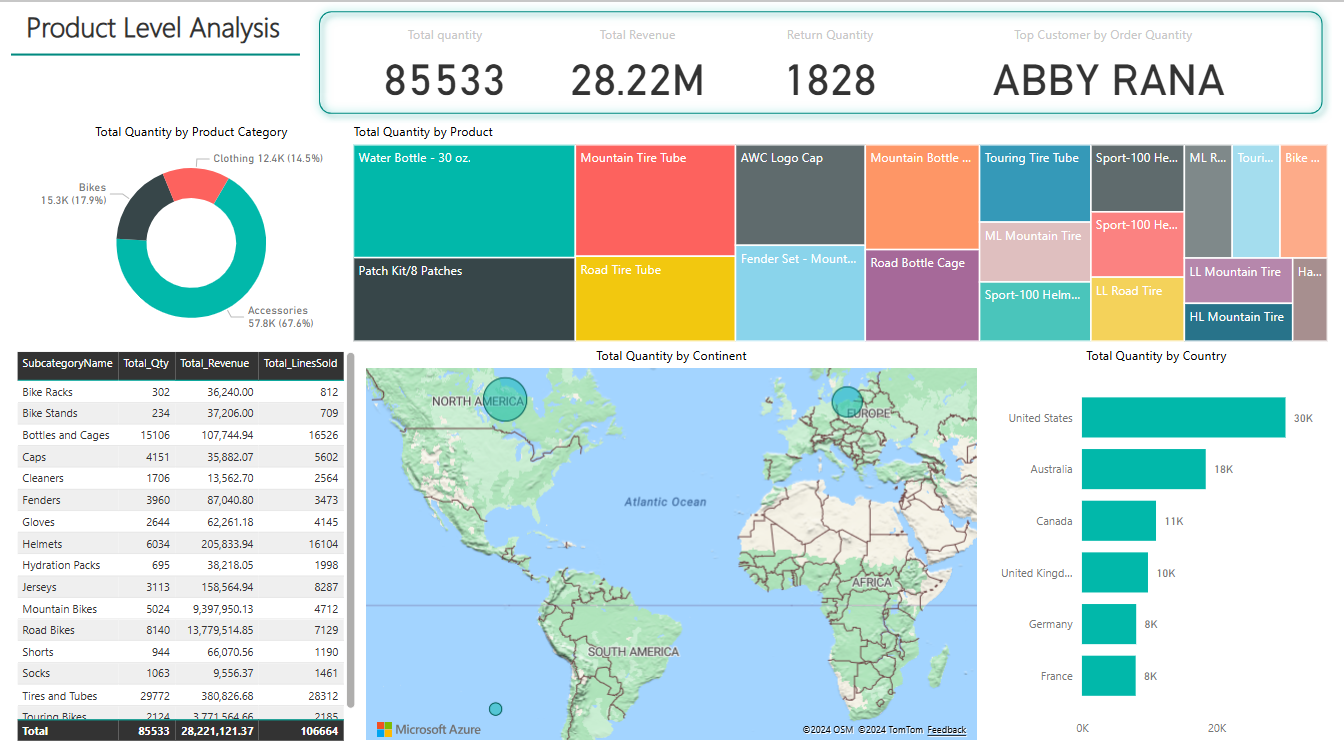

Layout of this report page (visuals, bound fields, positions):
{"tool":"powerbi","page":{"name":"Product Level Analysis","canvas":[1280,720],"ordinal":1},"visuals":[{"type":"textbox","box":[9.8,0,280,45.2],"z":0},{"type":"shape","box":[0,45.2,280,12.2],"z":1000},{"type":"shape","box":[289.8,0,990.5,117.4],"z":2000},{"type":"card","title":"Total quantity","fields":{"Values":["All_Measure.Total_Qty"]},"box":[326.5,23.2,187.1,79.5],"z":3000},{"type":"card","title":"Total Revenue","fields":{"Values":["All_Measure.Total_Revenue"]},"box":[513.6,23.2,187.1,79.5],"z":4000},{"type":"card","title":"Return Quantity","fields":{"Values":["All_Measure.Return_Qty"]},"box":[700.7,23.2,187.1,79.5],"z":5000},{"type":"card","title":"Top Customer by Order Quantity","fields":{"Values":["AW_Customers.First_Name"]},"box":[887.8,23.2,341.2,79.5],"z":6000},{"type":"donutChart","title":"Total Quantity by Product Category","fields":{"Category":["AW_Product_Categories.CategoryName"],"Y":["All_Measure.Total_Qty"]},"box":[0,117.4,349.7,216.4],"z":7000},{"type":"treemap","title":"Total Quantity by Product","fields":{"Values":["All_Measure.Total_Qty"],"Group":["AW_Products.ProductName"]},"box":[326.5,117.4,953.8,216.4],"z":8000},{"type":"tableEx","fields":{"Values":["AW_Product_Subcategories.SubcategoryName","All_Measure.Total_Qty","All_Measure.Total_Revenue","All_Measure.Total_LinesSold"]},"box":[0,333.8,338.7,386.4],"z":9000},{"type":"clusteredBarChart","title":"Total Quantity by Country","fields":{"Y":["All_Measure.Total_Qty"],"Category":["AW_Territories.Country"]},"box":[940.4,333.8,339.9,386.4],"z":10000},{"type":"azureMap","title":"Total Quantity by Continent","fields":{"Category":["AW_Territories.Continent"],"Size":["All_Measure.Total_Qty"]},"box":[338.7,333.8,601.6,386.4],"z":11000}]}

Visuals, with their boxes in screenshot pixels (x1, y1, x2, y2), scaled from the page's 1280x720 canvas onto the 1344x742 screenshot:
textbox: (left=10, top=0, right=304, bottom=47)
shape: (left=0, top=47, right=294, bottom=59)
shape: (left=304, top=0, right=1343, bottom=121)
"Total quantity" card: (left=343, top=24, right=539, bottom=106)
"Total Revenue" card: (left=539, top=24, right=736, bottom=106)
"Return Quantity" card: (left=736, top=24, right=932, bottom=106)
"Top Customer by Order Quantity" card: (left=932, top=24, right=1290, bottom=106)
"Total Quantity by Product Category" donutChart: (left=0, top=121, right=367, bottom=344)
"Total Quantity by Product" treemap: (left=343, top=121, right=1343, bottom=344)
tableEx - AW_Product_Subcategories.SubcategoryName x All_Measure.Total_Qty: (left=0, top=344, right=356, bottom=741)
"Total Quantity by Country" clusteredBarChart: (left=987, top=344, right=1343, bottom=741)
"Total Quantity by Continent" azureMap: (left=356, top=344, right=987, bottom=741)
